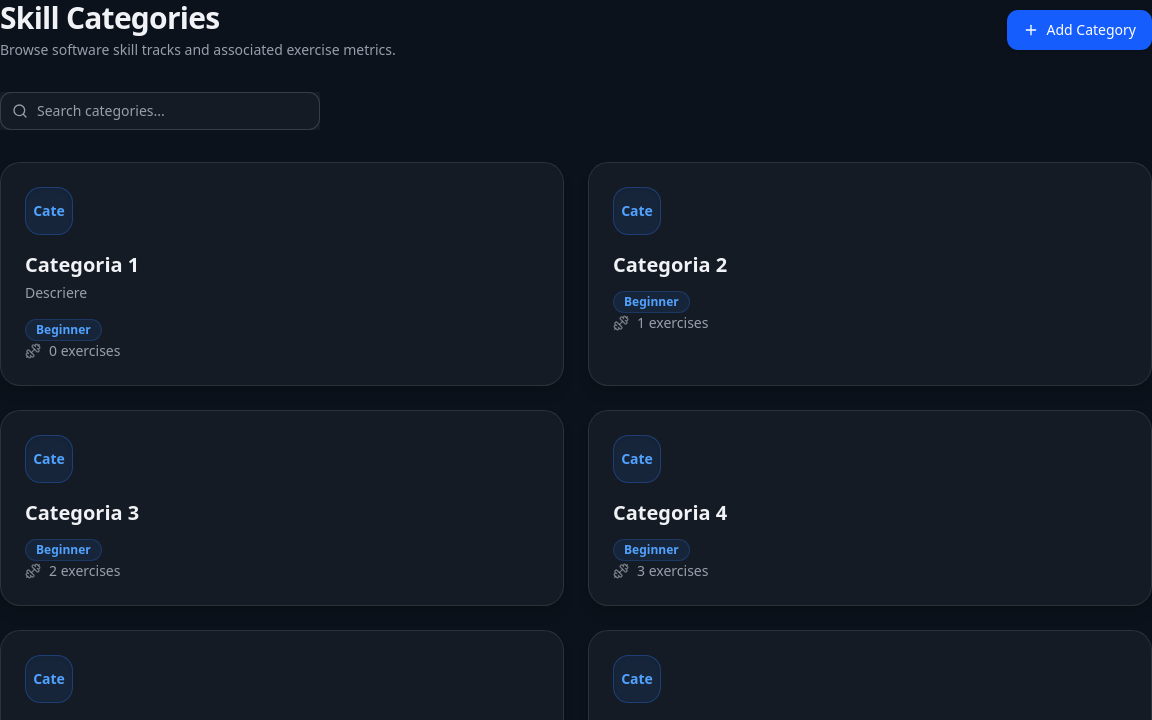
Test: CategoriesManager › shows the error on save
This screenshot has width=1152, height=720.
Check: the heading "Categoria 1" is shown, box [25,251,139,278]
Click the button "Add Category". click: {"x": 1079, "y": 30}
box: [1006,10,1151,50]
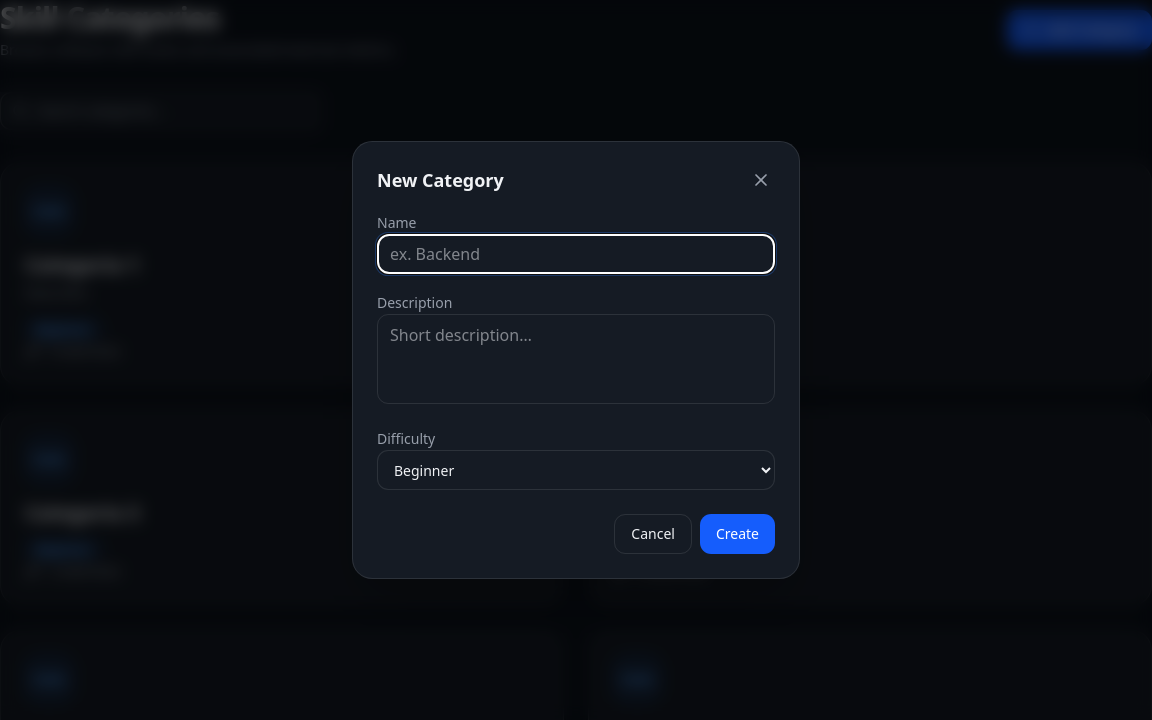
Submit the form "Create", box [352,141,800,579]
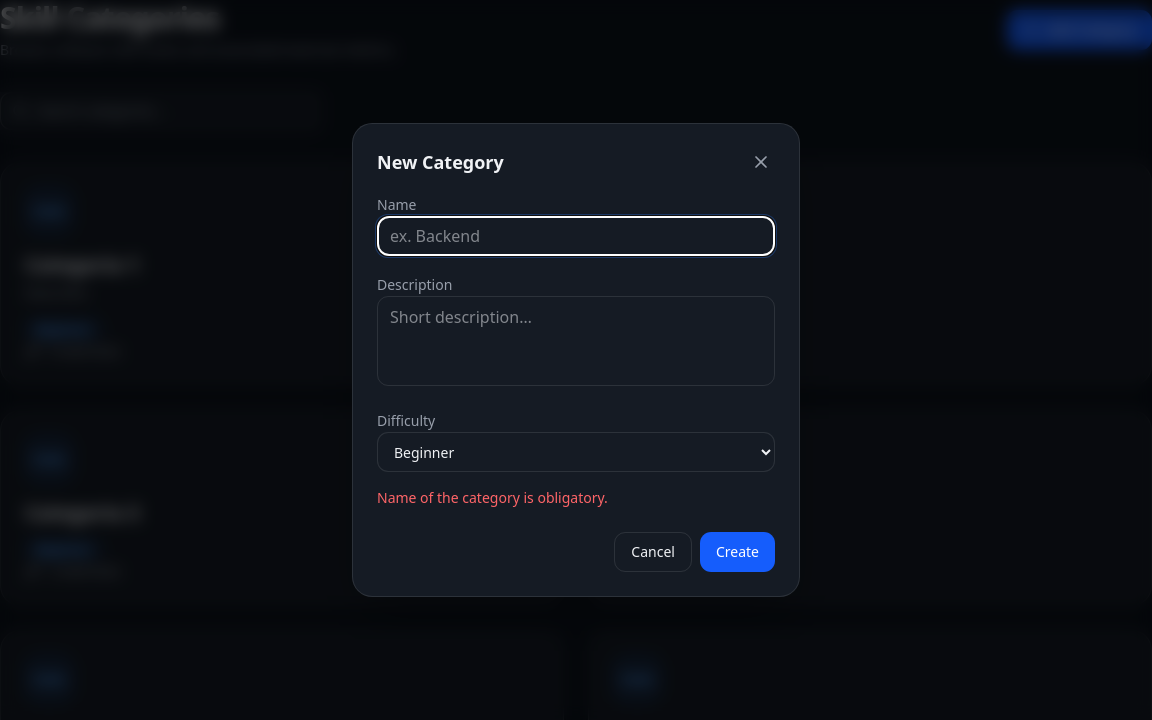
Check: the text "Name of the category is obligatory." is shown, box [377,488,608,507]
